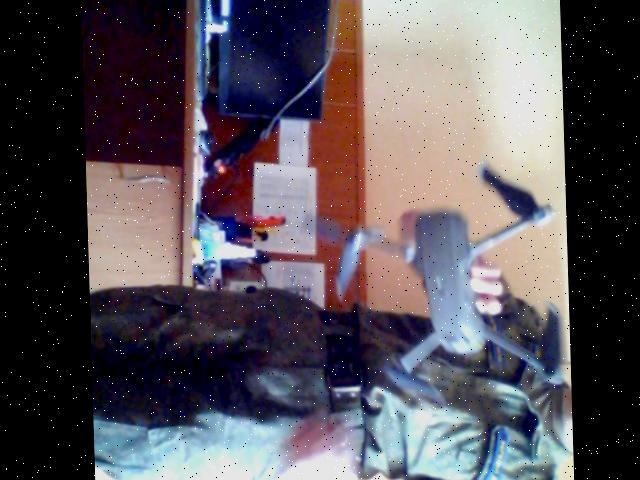drone: (342, 175, 570, 417)
